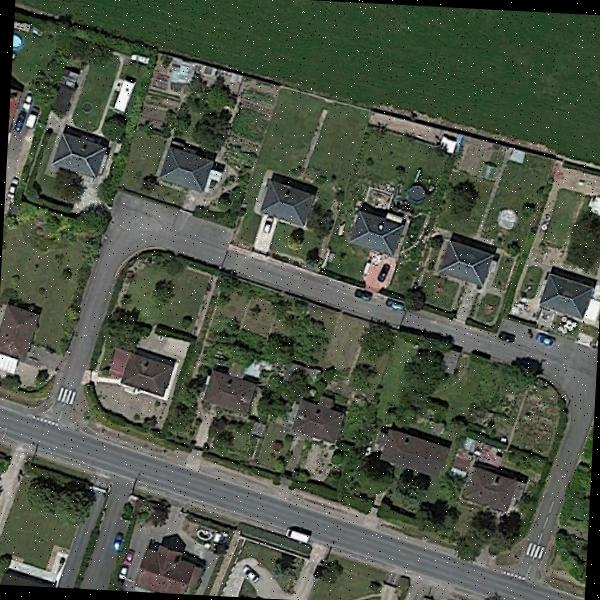Buildings: (378, 424, 454, 479), (140, 538, 205, 596), (464, 458, 524, 520), (435, 237, 500, 293), (109, 351, 175, 402), (260, 177, 315, 231), (293, 390, 345, 445), (357, 200, 402, 262), (50, 127, 104, 178), (544, 278, 592, 318), (0, 306, 32, 362), (208, 373, 252, 410), (162, 156, 214, 186)
